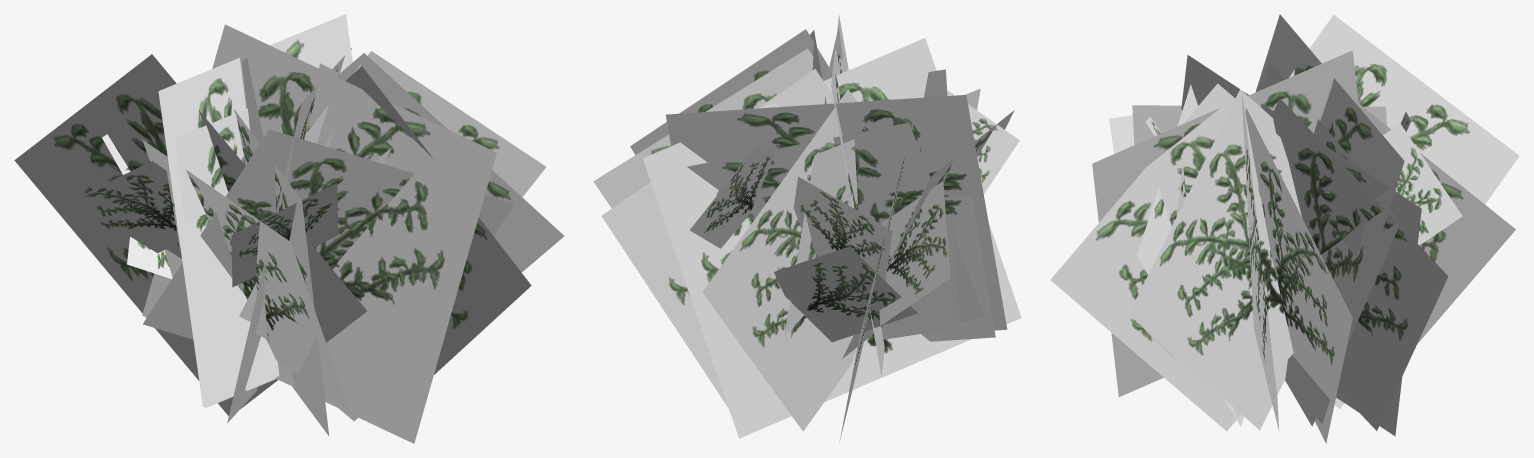
Rendered from Bush_01.fbx.
3 views of the same model, side by side, from view 1: azimuth 30°, elevation 25°; view 2: azimuth 150°, elevation 25°; view 3: azimuth 270°, elevation 25° (orthographic). The views are drawn at different scales.
Visible parts, largest first — view 1: pPlane159; view 2: pPlane159; view 3: pPlane159.
Part boxes in pixels (x1=…): pPlane159: x1=14, y1=14, x2=564, y2=443; pPlane159: x1=593, y1=14, x2=1021, y2=442; pPlane159: x1=1050, y1=14, x2=1519, y2=443.
Bounding box in the file's own units: 15.36 × 13.76 × 16.26.
1 material, 1 textured.
